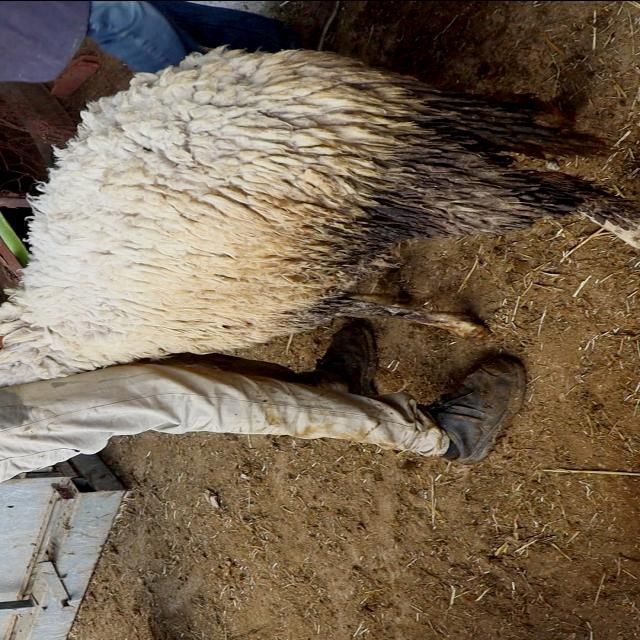Score_4: (0, 46, 639, 385)
